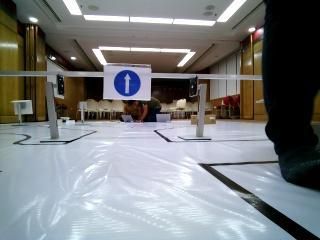straight: (104, 64, 156, 100)
